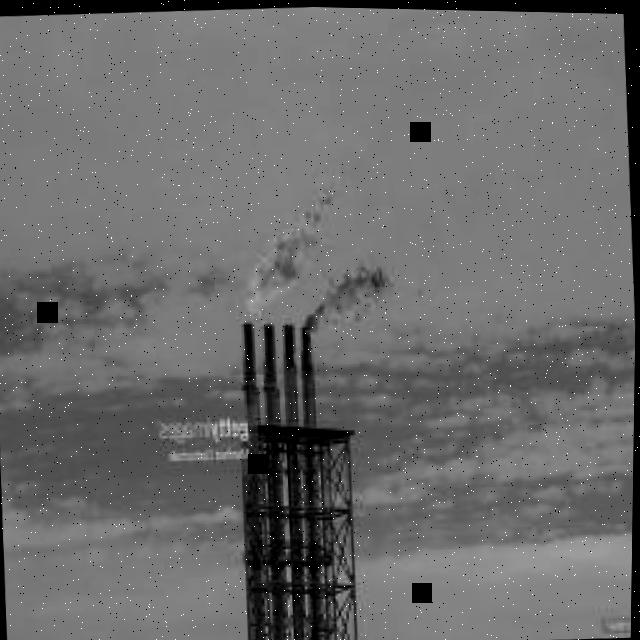fire: (247, 167, 343, 316), (306, 255, 396, 333)
